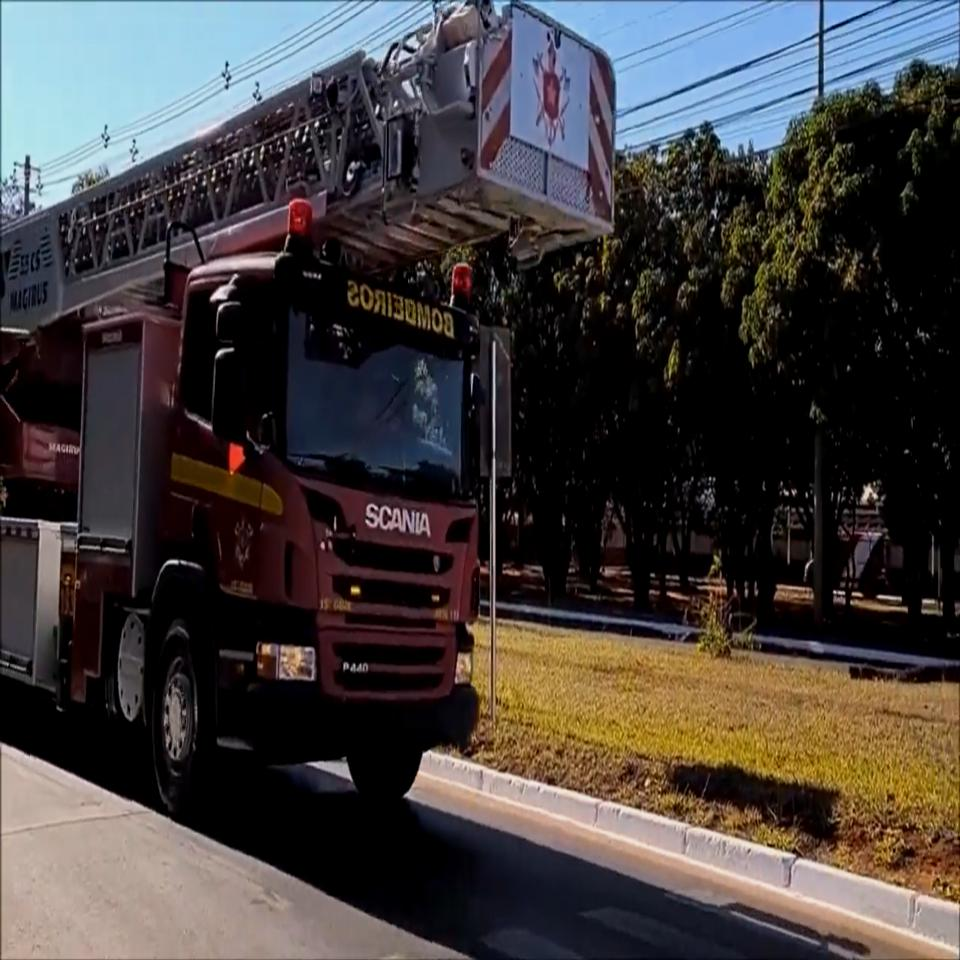bombeiro: (0, 0, 616, 813)
